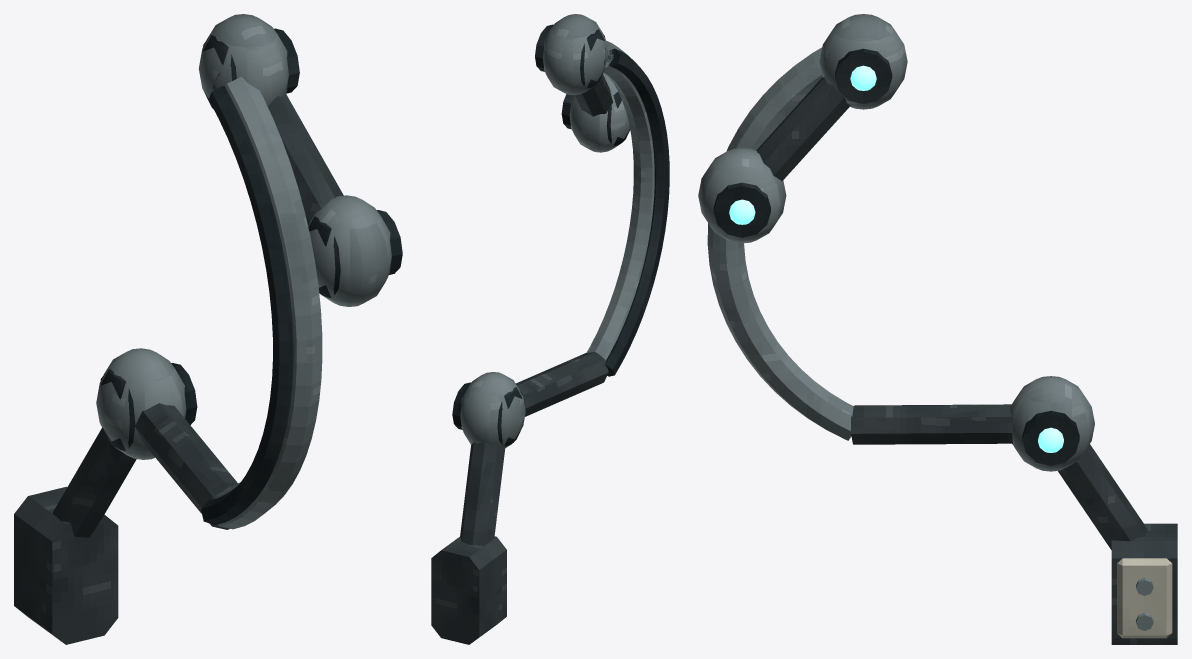
File: cranial_interface_left.glb
3 renders of one model, left to right at view 1: azimuth 30°, elevation 25°; view 2: azimuth 150°, elevation 25°; view 3: azimuth 270°, elevation 25°, orthographic. The views are drawn at different scales.
Visible parts, largest first — view 1: cranial_interface_left; view 2: cranial_interface_left; view 3: cranial_interface_left.
Part boxes in pixels (x1,y1,x2,y2): cranial_interface_left: (14, 14, 402, 644); cranial_interface_left: (431, 14, 669, 644); cranial_interface_left: (698, 14, 1177, 644).
Size of the model in its own units: 0.0238 by 0.1255 by 0.087.
Materials: 5 (4 with a texture image).
